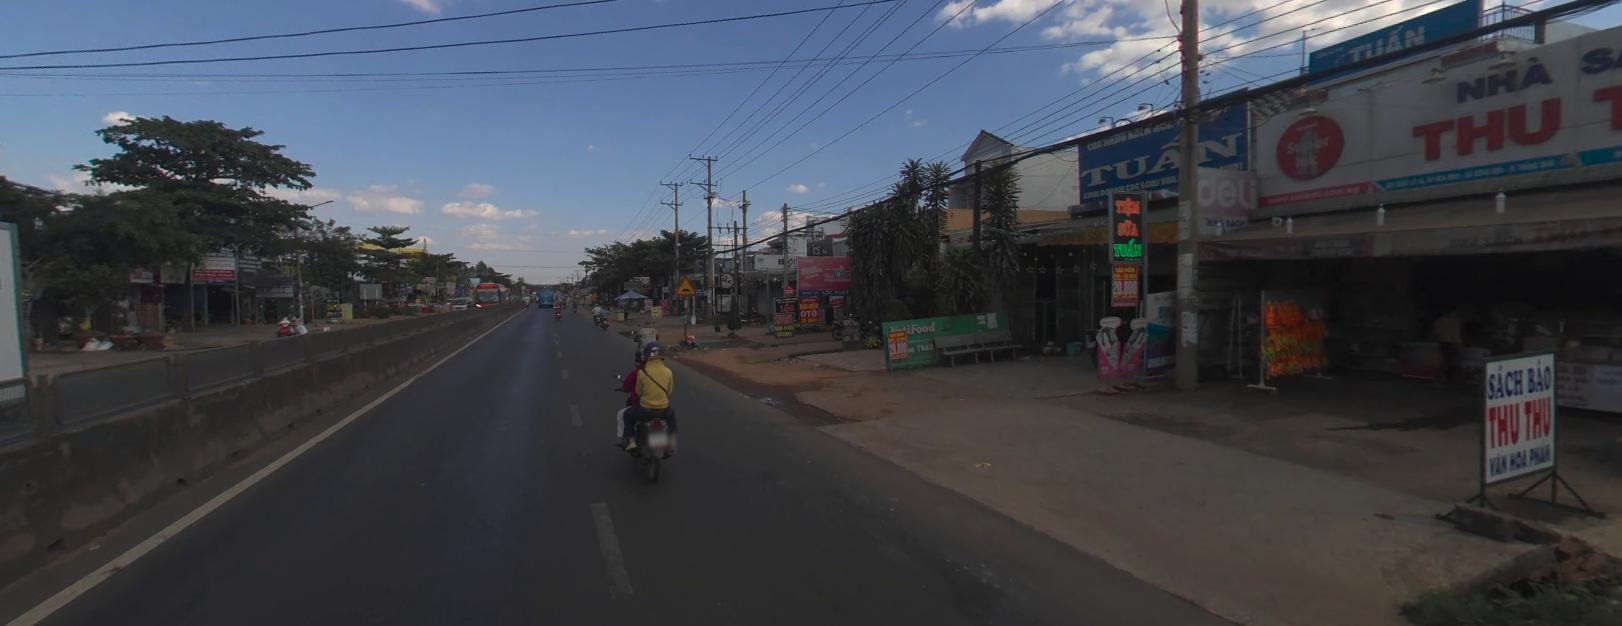Cam nguoc chieu: (525, 286, 530, 289)
Hieu lenh: (525, 290, 530, 293)
Nguy hiem: (675, 274, 696, 293), (674, 274, 694, 293), (675, 275, 694, 293), (591, 290, 597, 295)
